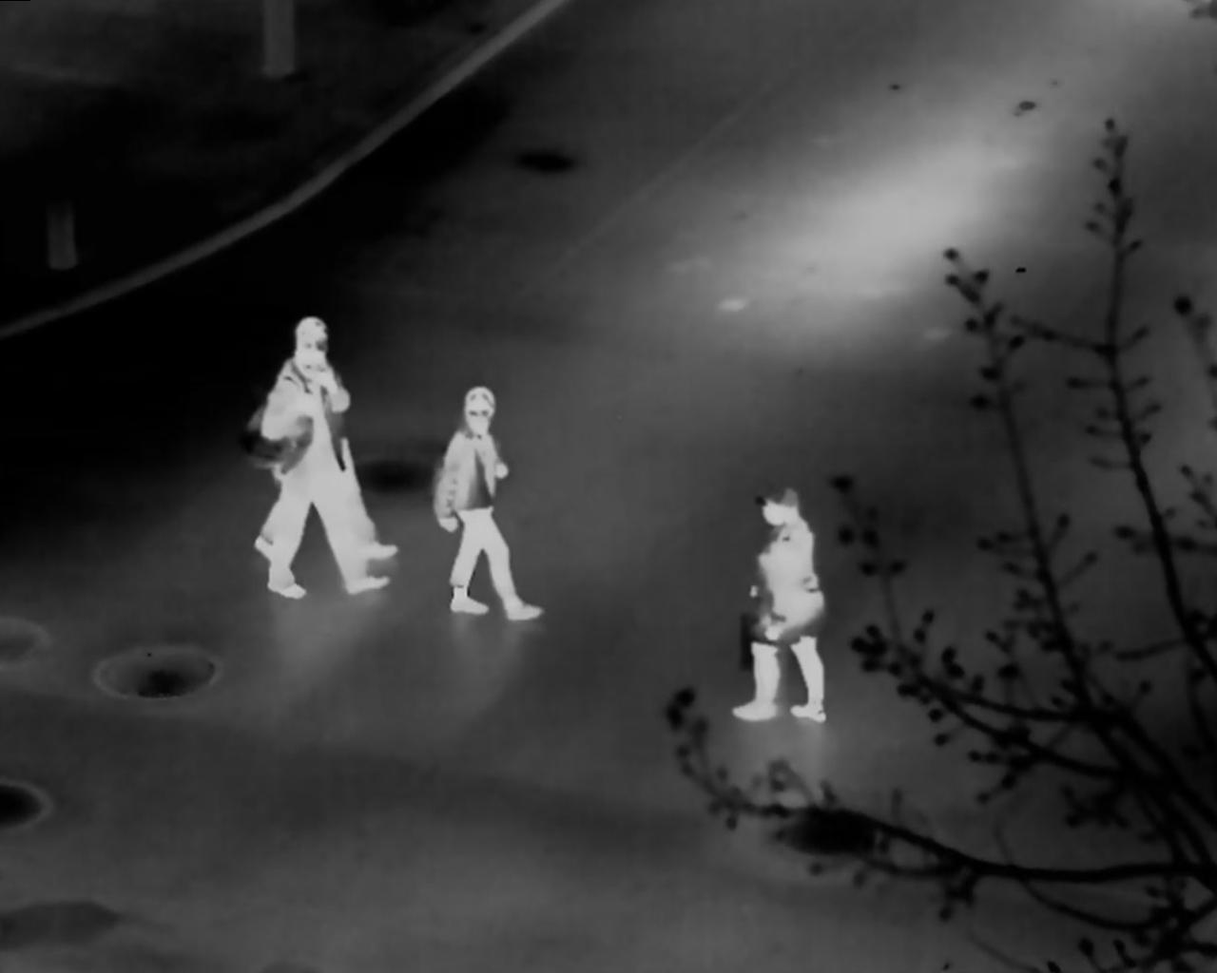person: (248, 313, 400, 564), (261, 343, 391, 598), (433, 385, 544, 620), (728, 487, 827, 726)
